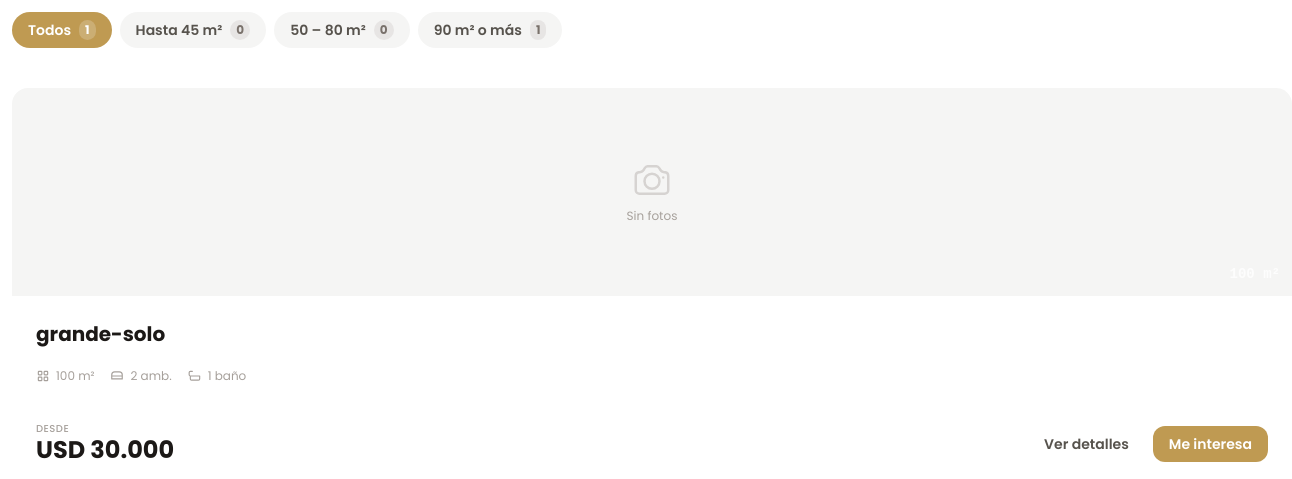
Scenario: CatalogGrid › muestra estado vacío cuando no hay modelos en el rango de superficie
Click the button "Hasta 45 m² 0" at (193, 30), box left=120, top=12, right=266, bottom=48
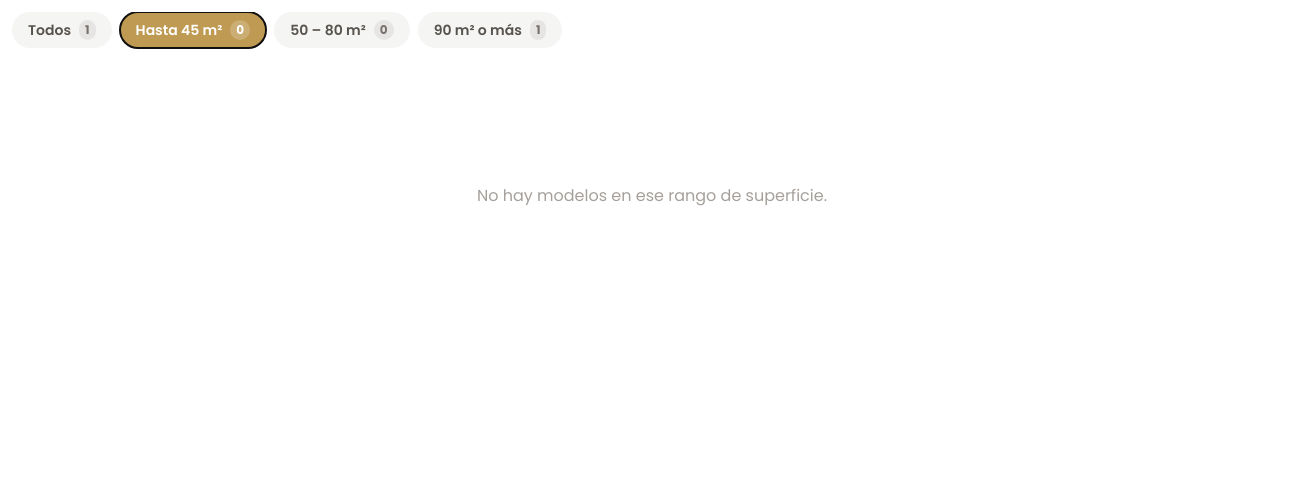
Now the text "No hay modelos en ese rango de superficie." is shown, box left=477, top=184, right=827, bottom=207
